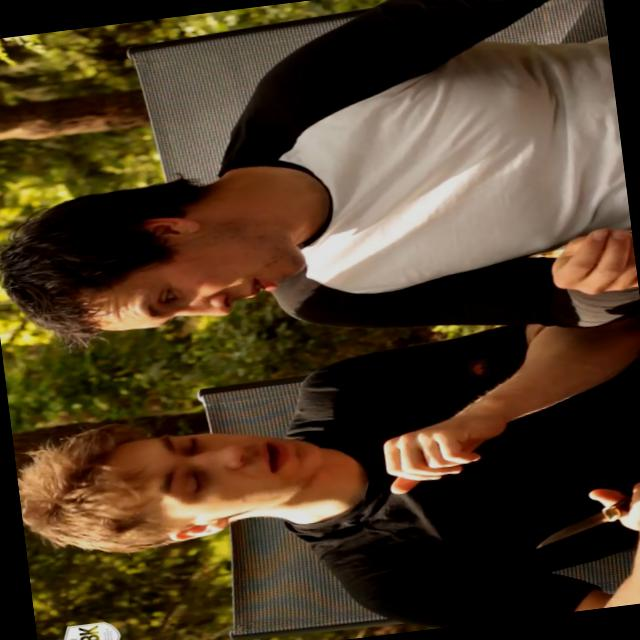knife: (509, 468, 639, 564)
